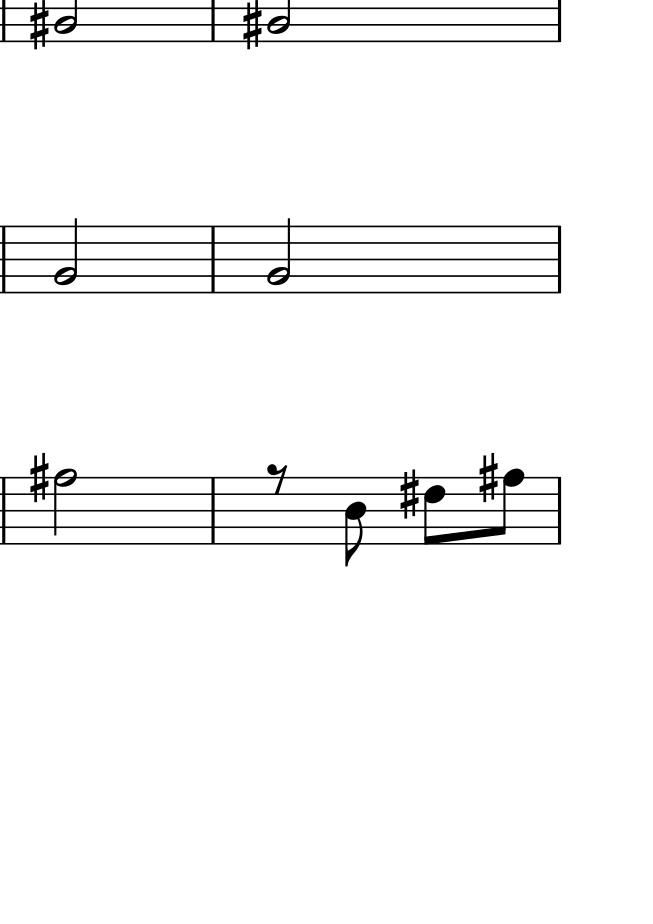2_2: (52, 216, 80, 294), (265, 216, 293, 294)
2_8: (51, 465, 76, 548)
8_4: (343, 476, 369, 568)
8_6: (423, 474, 447, 548)
8_8: (494, 467, 524, 547)
Rests8: (267, 462, 290, 495)
Sharp: (28, 451, 50, 504), (398, 468, 420, 521), (477, 452, 499, 504), (28, 1, 49, 51), (242, 1, 262, 51)
Single_barline: (551, 226, 567, 292), (206, 226, 221, 294), (552, 477, 567, 545), (206, 478, 221, 543), (1, 477, 11, 545), (1, 226, 11, 293)
